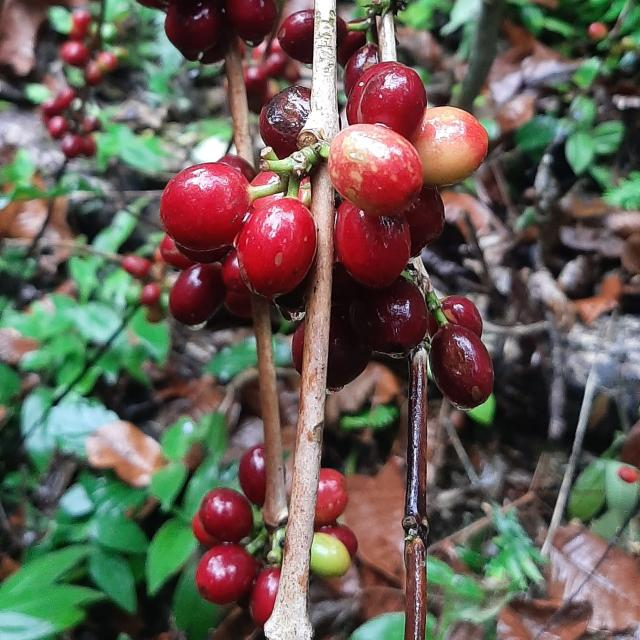green: (310, 533, 351, 579)
red: (160, 162, 251, 251), (236, 197, 316, 298), (335, 200, 411, 289), (346, 61, 428, 138), (350, 277, 429, 354), (430, 323, 495, 410), (327, 306, 372, 392), (259, 85, 311, 158), (195, 544, 256, 606), (164, 0, 223, 60), (169, 263, 226, 325), (199, 488, 253, 543), (405, 186, 446, 257), (225, 0, 277, 45), (315, 469, 348, 529), (278, 9, 314, 62), (250, 568, 281, 629), (441, 296, 483, 337), (238, 445, 266, 506), (318, 525, 359, 559), (191, 512, 220, 549), (292, 321, 305, 373)
yellow: (328, 123, 424, 216), (412, 106, 489, 186)
